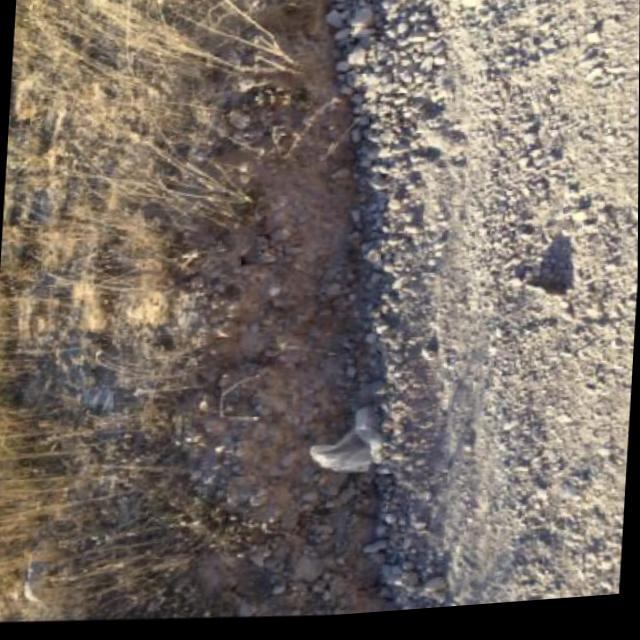plastic: (306, 404, 384, 481)
